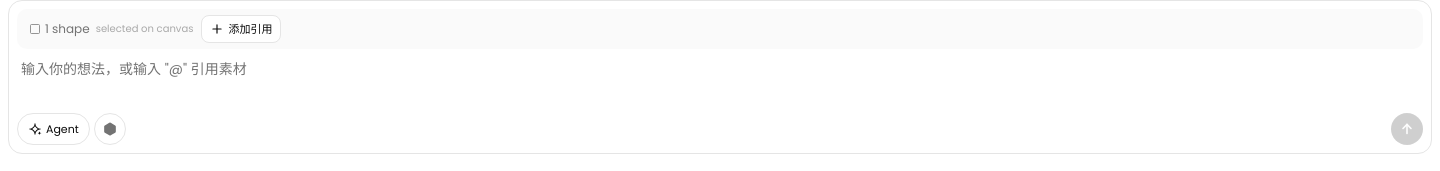
it: ChatInput Agent execution continuation context › adds selected canvas nodes as removable manual references for the next send
The width and height of the screenshot is (1440, 171).
Click the button "添加引用" at [241, 29], box top-left (201, 15), bottom-right (281, 43)
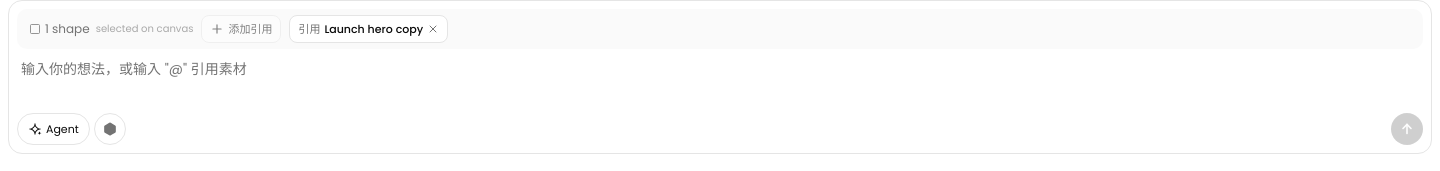
Check: the text "引用" is shown, box top-left (298, 22), bottom-right (320, 36)
Check: the text "Launch hero copy" is shown, box top-left (324, 22), bottom-right (423, 36)
Check: the button "添加引用" is disabled, box top-left (201, 15), bottom-right (281, 43)
Type "参考这个文案继续" into the text box named "输入消息" at [720, 81], box top-left (17, 57), bottom-right (1423, 105)
Then press Enter
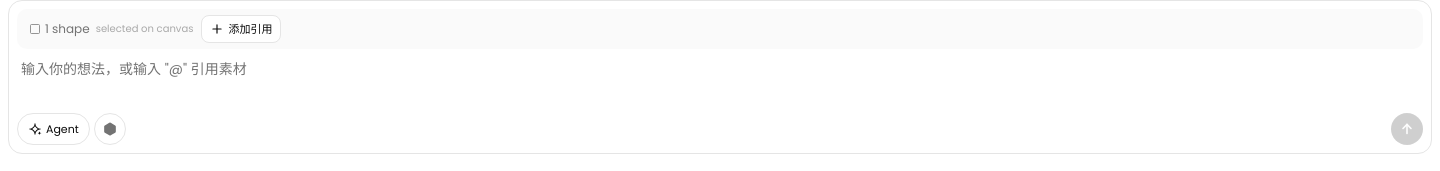
Check: the button "Launch hero copy" is gone
